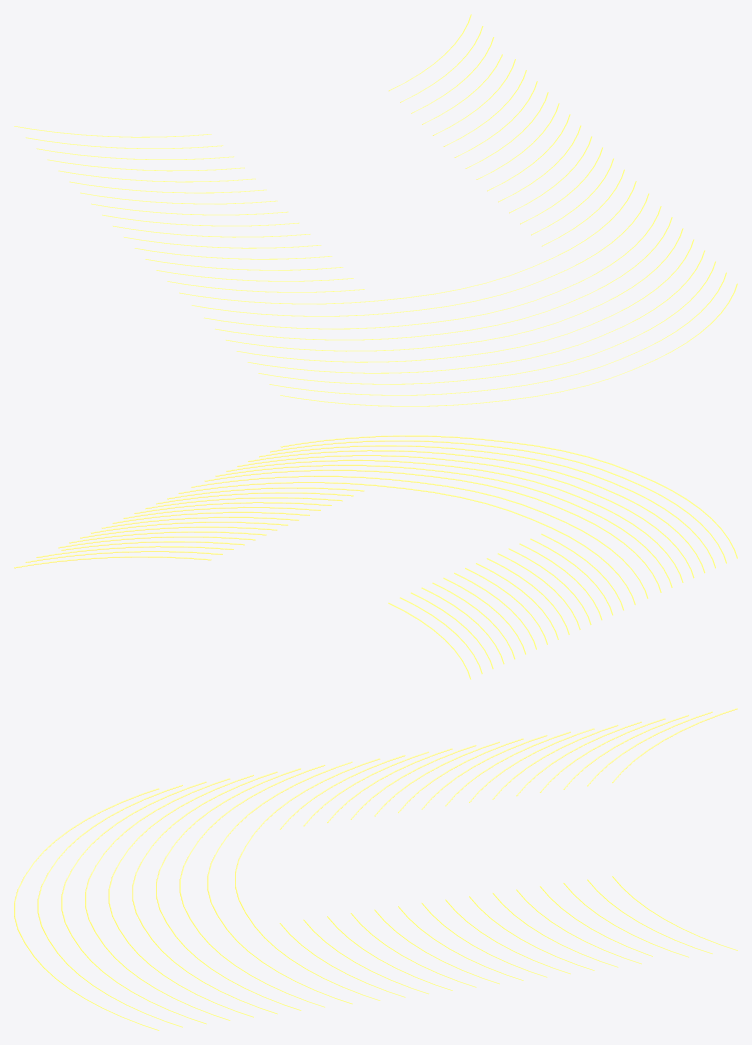
File: SM_Stairslight_01.fbx
3 views of the same model, one above another, from view 1: azimuth 30°, elevation 25°; view 2: azimuth 150°, elevation 25°; view 3: azimuth 270°, elevation 25° (orthographic). The views are drawn at different scales.
Parts seen in each view (by area): view 1: SM_Stairslight_01; view 2: SM_Stairslight_01; view 3: SM_Stairslight_01.
Part boxes in pixels (x1,y1,x2,y2): SM_Stairslight_01: (14,14,737,406); SM_Stairslight_01: (14,435,737,679); SM_Stairslight_01: (14,708,737,1030).
Size of the model in its own units: 2161 by 337 by 2724.
